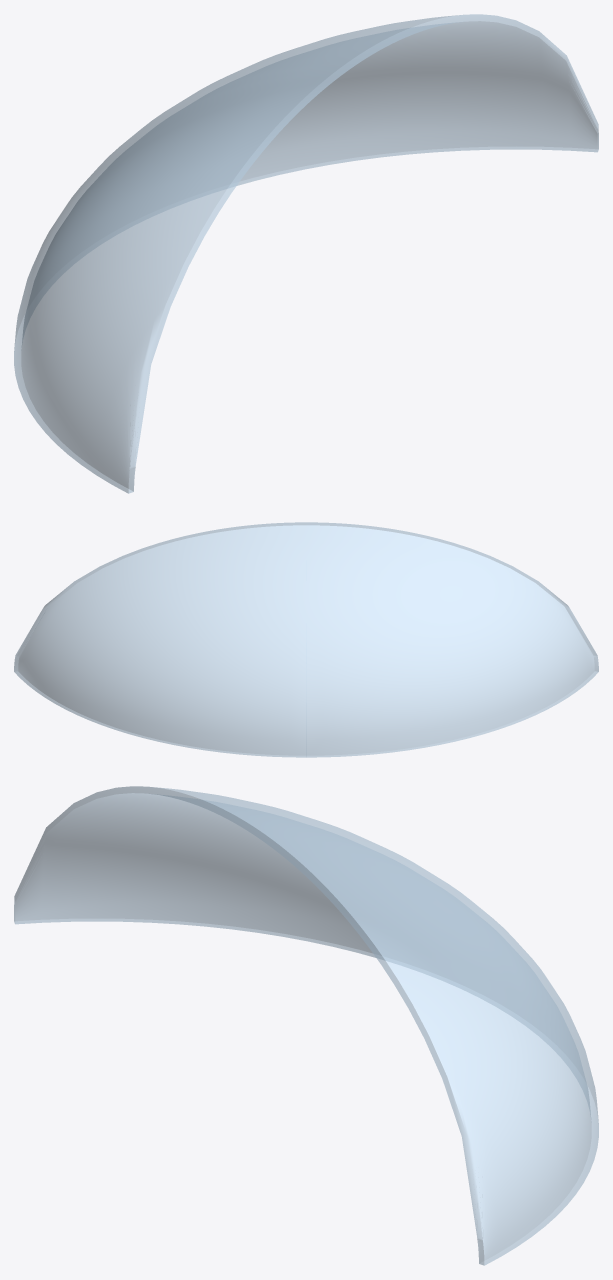
Rendered from EM_Glass.fbx.
3 views of the same model, one above another, from view 1: azimuth 30°, elevation 25°; view 2: azimuth 150°, elevation 25°; view 3: azimuth 270°, elevation 25° (orthographic). The views are drawn at different scales.
Parts seen in each view (by area): view 1: EM_Glass; view 2: EM_Glass; view 3: EM_Glass.
Part boxes in pixels (<box>): EM_Glass: <box>14,14,598,493</box>; EM_Glass: <box>14,522,598,757</box>; EM_Glass: <box>14,786,598,1265</box>.
Size of the model in its own units: 5.73 by 1.93 by 4.08.
